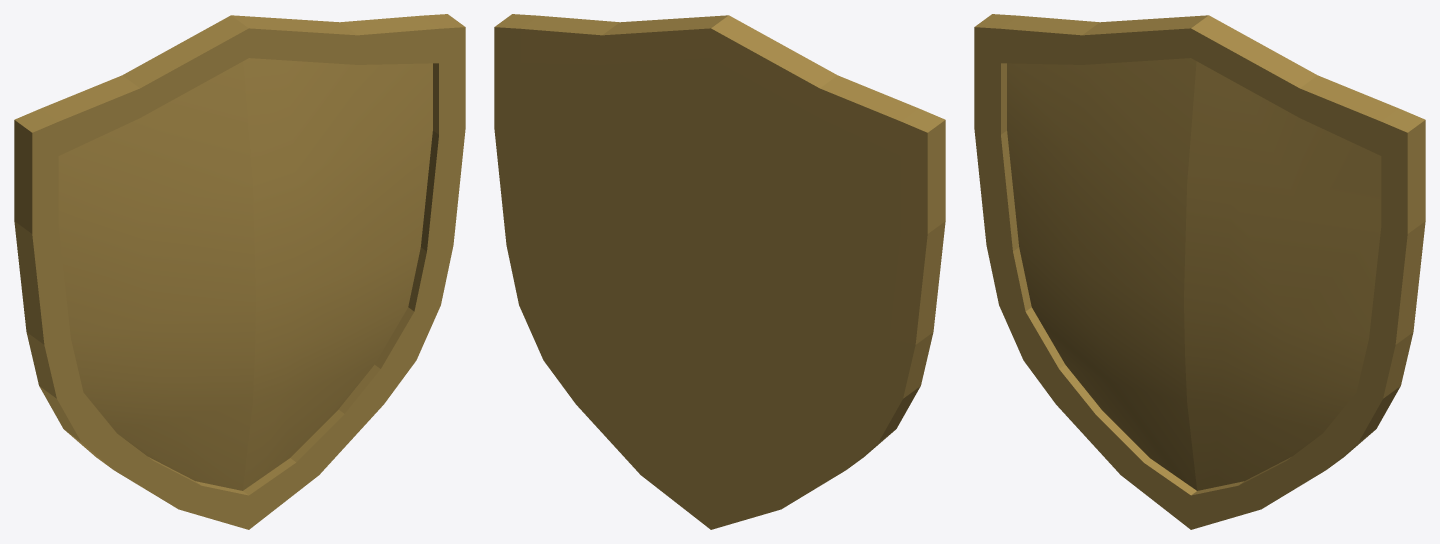
Rendered from shileld.fbx.
3 renders of one model, left to right at view 1: azimuth 30°, elevation 25°; view 2: azimuth 150°, elevation 25°; view 3: azimuth 330°, elevation 25°, orthographic.
Visible parts, largest first — view 1: polySurface5; view 2: polySurface5; view 3: polySurface5.
Part boxes in pixels (x1,y1,x2,y2): polySurface5: (14,14,465,529); polySurface5: (494,14,945,529); polySurface5: (974,14,1425,529).
Bounding box in the file's own units: 22.33 × 24.7 × 2.24.
